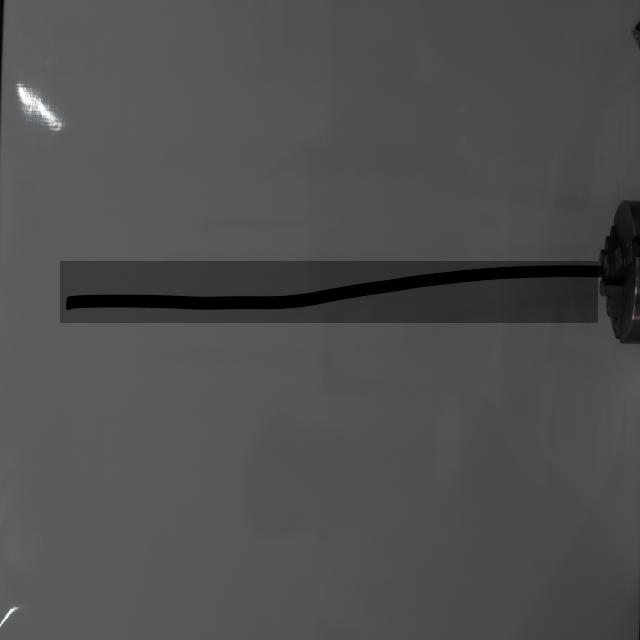plain round bar: (60, 261, 598, 323)
